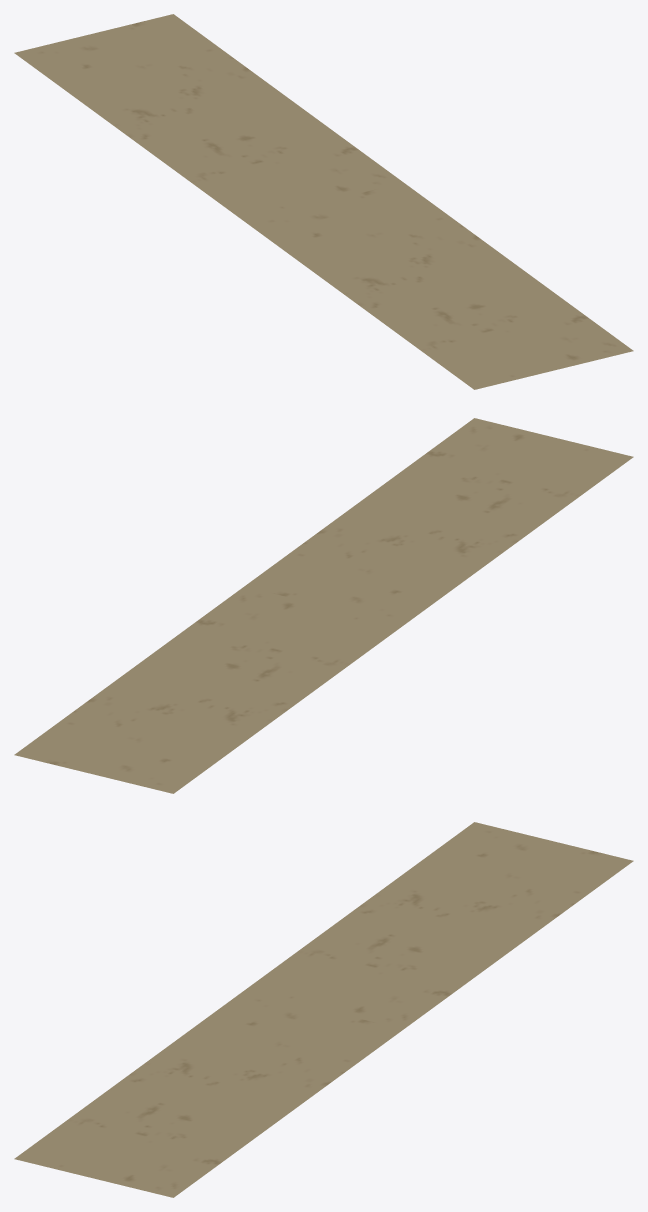
The model's file is SW_ENV_Ceiling_A_1x5m.fbx.
The picture shows the model from 3 angles, top to bottom: view 1: azimuth 30°, elevation 25°; view 2: azimuth 150°, elevation 25°; view 3: azimuth 330°, elevation 25°; orthographic projection.
Parts seen in each view (by area): view 1: SW_ENV_Ceiling_A_1x5m; view 2: SW_ENV_Ceiling_A_1x5m; view 3: SW_ENV_Ceiling_A_1x5m.
Part boxes in pixels (box(x1,y1,x2,y2)): SW_ENV_Ceiling_A_1x5m: box(14, 14, 633, 389); SW_ENV_Ceiling_A_1x5m: box(14, 418, 633, 793); SW_ENV_Ceiling_A_1x5m: box(14, 822, 633, 1197).
Bounding box in the file's own units: 100 × 2.84e-12 × 500.
